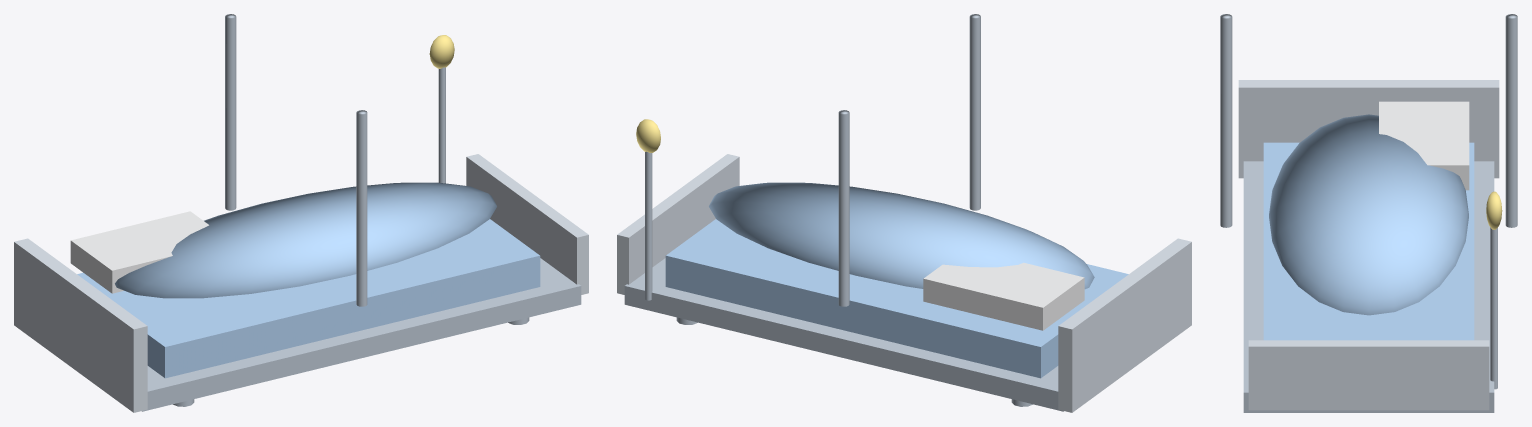
The model's file is hospital_bed.glb.
3 renders of one model, left to right at view 1: azimuth 30°, elevation 25°; view 2: azimuth 150°, elevation 25°; view 3: azimuth 270°, elevation 25°, orthographic. The views are drawn at different scales.
Visible parts, largest first — view 1: large rectangular blue mattress top, rounded blue mattress crown, thin wheeled hospital bed deck, flat head foot board head, flat foot board, clear white pillow block at bed head, right raised tubular bed rail, left raised tubular bed rail, slender iv pole kept secondary, small yellow iv bag; view 2: large rectangular blue mattress top, rounded blue mattress crown, flat head foot board head, thin wheeled hospital bed deck, clear white pillow block at bed head, flat foot board, left raised tubular bed rail, right raised tubular bed rail, slender iv pole kept secondary, small yellow iv bag; view 3: rounded blue mattress crown, flat foot board, large rectangular blue mattress top, flat head foot board head, thin wheeled hospital bed deck, clear white pillow block at bed head, left raised tubular bed rail, right raised tubular bed rail, slender iv pole kept secondary, small yellow iv bag.
Boxes of the visible parts, bbox=[...] form: large rectangular blue mattress top: bbox=[77, 219, 540, 378]; rounded blue mattress crown: bbox=[115, 182, 496, 298]; thin wheeled hospital bed deck: bbox=[142, 258, 581, 411]; flat head foot board head: bbox=[14, 238, 147, 412]; flat foot board: bbox=[466, 154, 588, 294]; clear white pillow block at bed head: bbox=[70, 211, 208, 293]; right raised tubular bed rail: bbox=[356, 110, 367, 306]; left raised tubular bed rail: bbox=[225, 14, 236, 210]; slender iv pole kept secondary: bbox=[438, 67, 445, 183]; small yellow iv bag: bbox=[429, 35, 454, 68]; large rectangular blue mattress top: bbox=[665, 219, 1128, 378]; rounded blue mattress crown: bbox=[709, 182, 1094, 289]; flat head foot board head: bbox=[1058, 238, 1191, 412]; thin wheeled hospital bed deck: bbox=[624, 258, 1063, 411]; clear white pillow block at bed head: bbox=[923, 262, 1084, 330]; flat foot board: bbox=[617, 154, 739, 294]; left raised tubular bed rail: bbox=[838, 110, 849, 306]; right raised tubular bed rail: bbox=[969, 14, 980, 210]; slender iv pole kept secondary: bbox=[645, 151, 652, 300]; small yellow iv bag: bbox=[636, 119, 660, 152]; rounded blue mattress crown: bbox=[1269, 114, 1468, 315]; flat foot board: bbox=[1248, 340, 1489, 410]; large rectangular blue mattress top: bbox=[1263, 142, 1474, 340]; flat head foot board head: bbox=[1238, 80, 1499, 178]; thin wheeled hospital bed deck: bbox=[1243, 161, 1494, 412]; clear white pillow block at bed head: bbox=[1379, 101, 1469, 190]; left raised tubular bed rail: bbox=[1505, 14, 1517, 227]; right raised tubular bed rail: bbox=[1220, 14, 1232, 227]; slender iv pole kept secondary: bbox=[1490, 227, 1497, 389]; small yellow iv bag: bbox=[1486, 191, 1502, 229].
Bounding box in the file's own units: 1.15 × 0.635 × 0.594.
